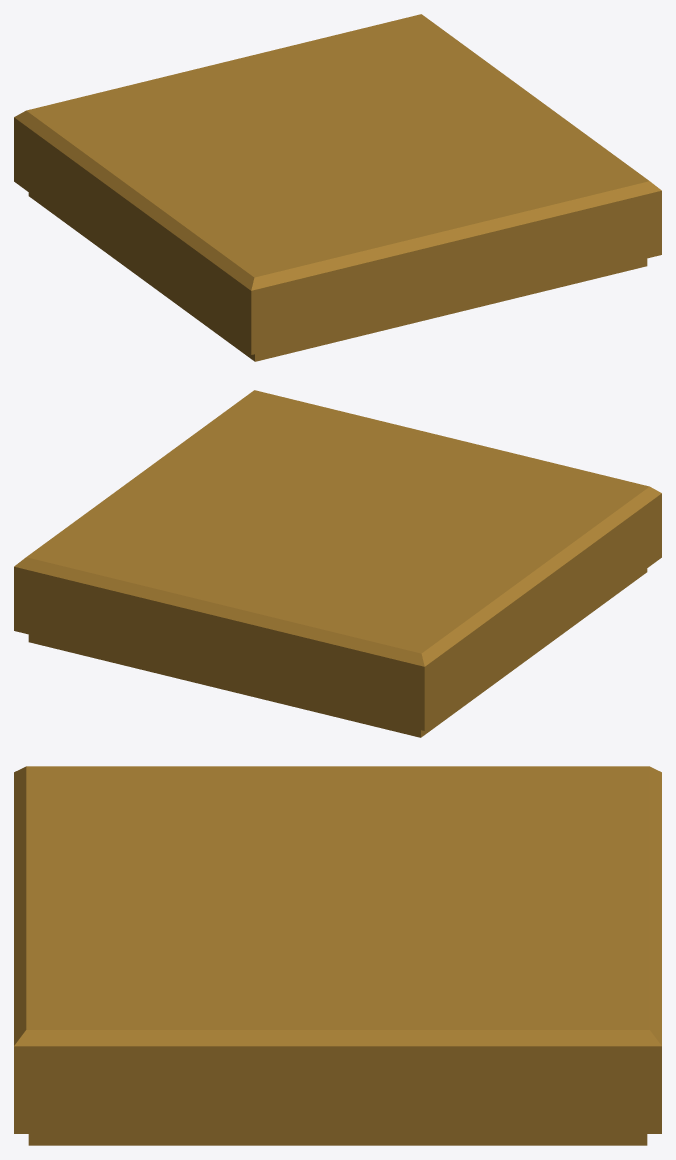
Rendered from 2x2 Plate.dae.
3 renders of one model, top to bottom at view 1: azimuth 30°, elevation 25°; view 2: azimuth 150°, elevation 25°; view 3: azimuth 270°, elevation 25°, orthographic. The views are drawn at different scales.
Visible parts, largest first — view 1: Part.0; view 2: Part.0; view 3: Part.0.
Part boxes in pixels (x1,y1,x2,y2): Part.0: (14,14,661,361); Part.0: (14,390,661,737); Part.0: (14,766,661,1145).
Size of the model in its own units: 15.92 by 3.16 by 15.92.
